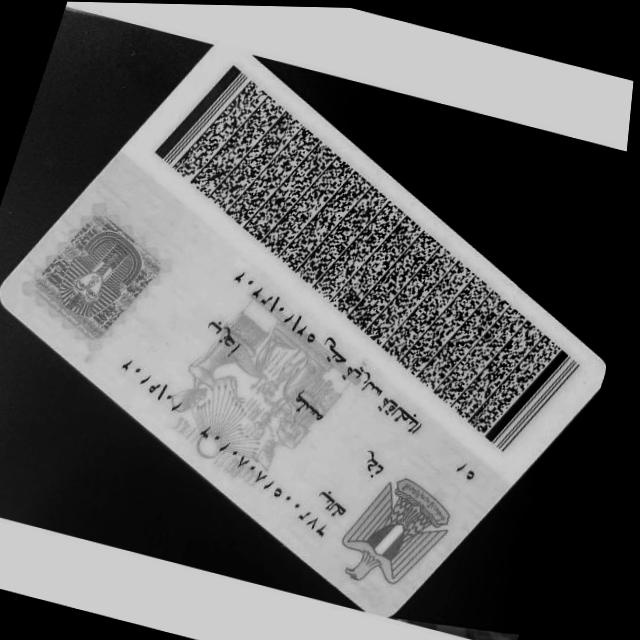id_card: (0, 46, 606, 613)
